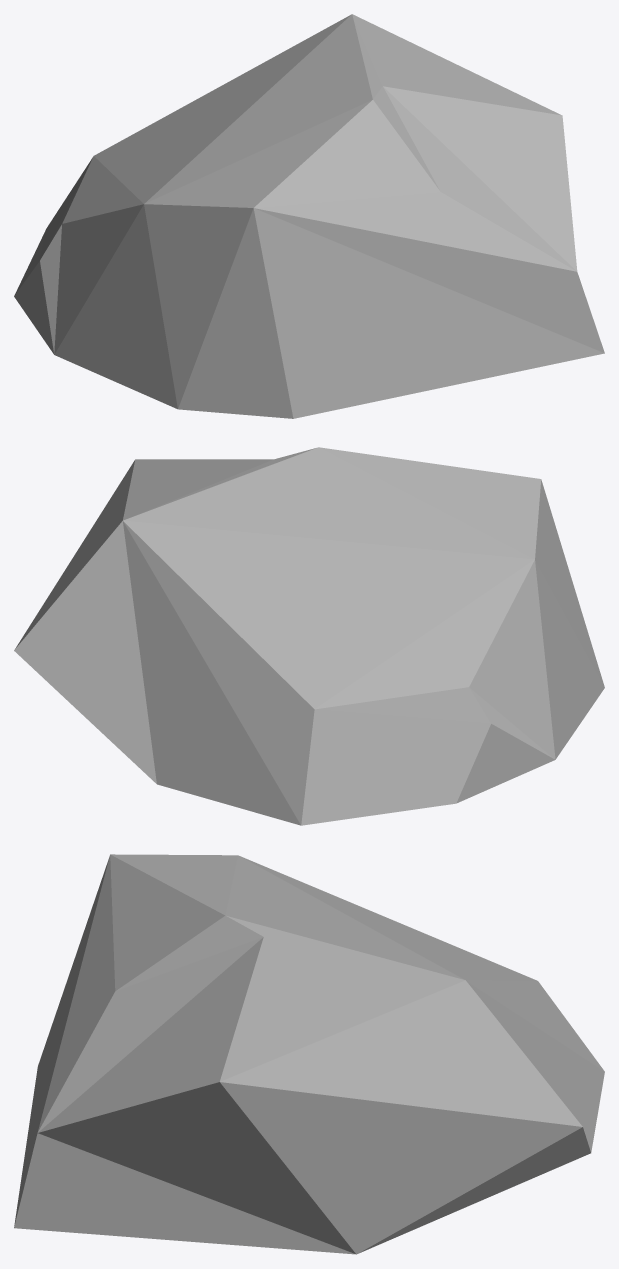
Rendered from Petit_Cailloux_03.fbx.
3 views of the same model, one above another, from view 1: azimuth 30°, elevation 25°; view 2: azimuth 150°, elevation 25°; view 3: azimuth 270°, elevation 25° (orthographic). The views are drawn at different scales.
Parts seen in each view (by area): view 1: Petit_Cailloux_03; view 2: Petit_Cailloux_03; view 3: Petit_Cailloux_03.
Boxes of the visible parts, x1=… form: Petit_Cailloux_03: x1=14, y1=14, x2=604, y2=418; Petit_Cailloux_03: x1=14, y1=447, x2=604, y2=825; Petit_Cailloux_03: x1=14, y1=854, x2=604, y2=1254.
Size of the model in its own units: 81.62 by 36.35 by 81.36.
Materials: 1 (1 with a texture image).
